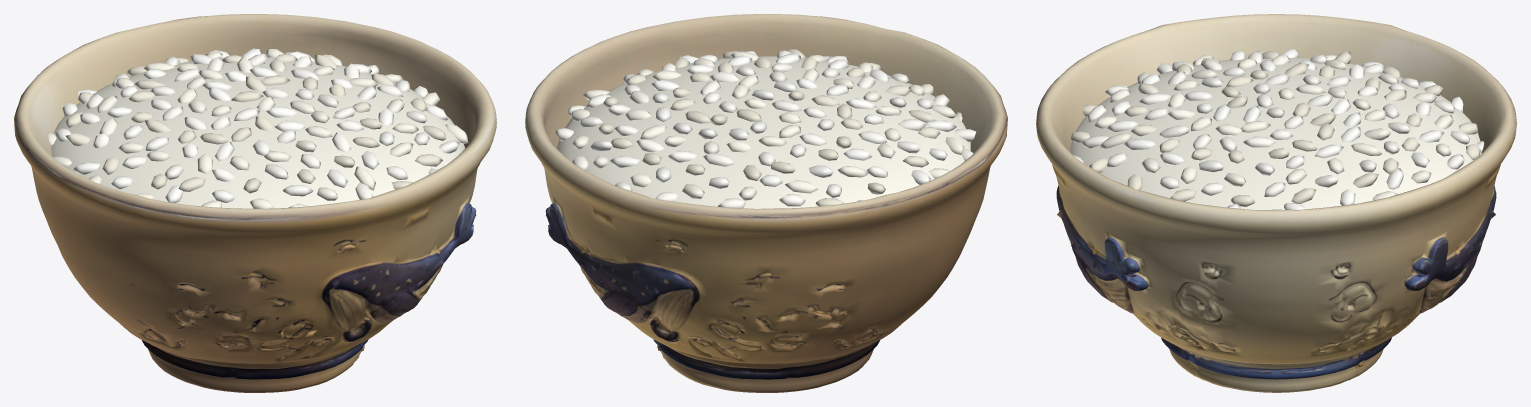
The model's file is home-rice-bowl-v1.glb.
The picture shows the model from 3 angles, left to right: view 1: azimuth 30°, elevation 25°; view 2: azimuth 150°, elevation 25°; view 3: azimuth 270°, elevation 25°; orthographic projection.
Parts seen in each view (by area): view 1: Whale porcelain bowl, Rice-mound, Rice-grains-0, Rice-grains-3, Rice-grains-2, Rice-grains-1; view 2: Whale porcelain bowl, Rice-mound, Rice-grains-0, Rice-grains-1, Rice-grains-3, Rice-grains-2; view 3: Whale porcelain bowl, Rice-mound, Rice-grains-2, Rice-grains-1, Rice-grains-0, Rice-grains-3.
Part boxes in pixels (left/top/right/bottom): Whale porcelain bowl: left=14, top=14, right=496, bottom=392; Rice-mound: left=51, top=57, right=465, bottom=208; Rice-grains-0: left=48, top=49, right=468, bottom=208; Rice-grains-3: left=55, top=49, right=459, bottom=202; Rice-grains-2: left=65, top=48, right=446, bottom=193; Rice-grains-1: left=80, top=50, right=429, bottom=207; Whale porcelain bowl: left=525, top=14, right=1007, bottom=392; Rice-mound: left=556, top=56, right=970, bottom=208; Rice-grains-0: left=571, top=51, right=964, bottom=200; Rice-grains-1: left=555, top=50, right=975, bottom=208; Rice-grains-3: left=579, top=51, right=956, bottom=201; Rice-grains-2: left=598, top=49, right=962, bottom=208; Whale porcelain bowl: left=1036, top=14, right=1516, bottom=392; Rice-mound: left=1070, top=57, right=1481, bottom=209; Rice-grains-2: left=1071, top=51, right=1480, bottom=206; Rice-grains-1: left=1081, top=51, right=1469, bottom=196; Rice-grains-0: left=1094, top=50, right=1453, bottom=200; Rice-grains-3: left=1073, top=49, right=1483, bottom=209.
Size of the model in its own units: 0.152 by 0.0864 by 0.152.
Materials: 5 (1 with a texture image).
